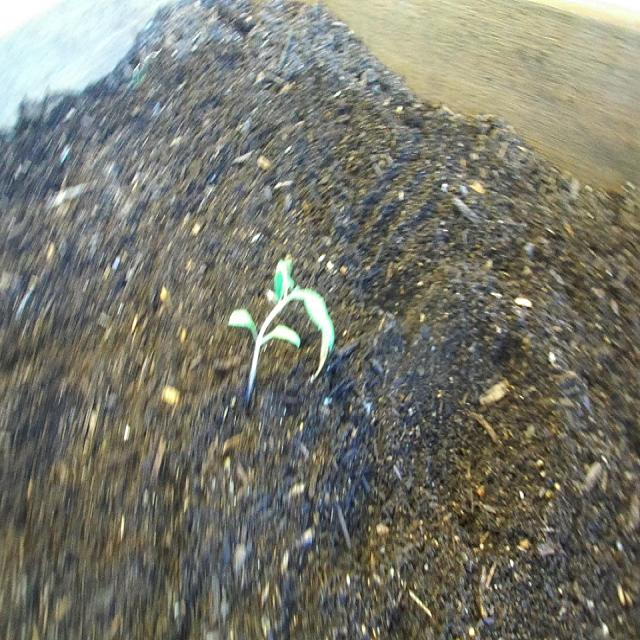Healthy: (223, 251, 339, 412)
